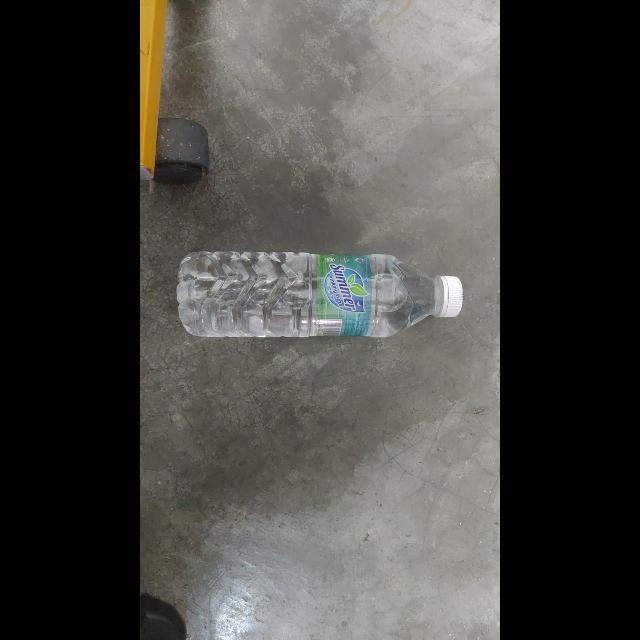garrafa plástica: (178, 250, 444, 338)
tampa plástica: (436, 272, 466, 320)
